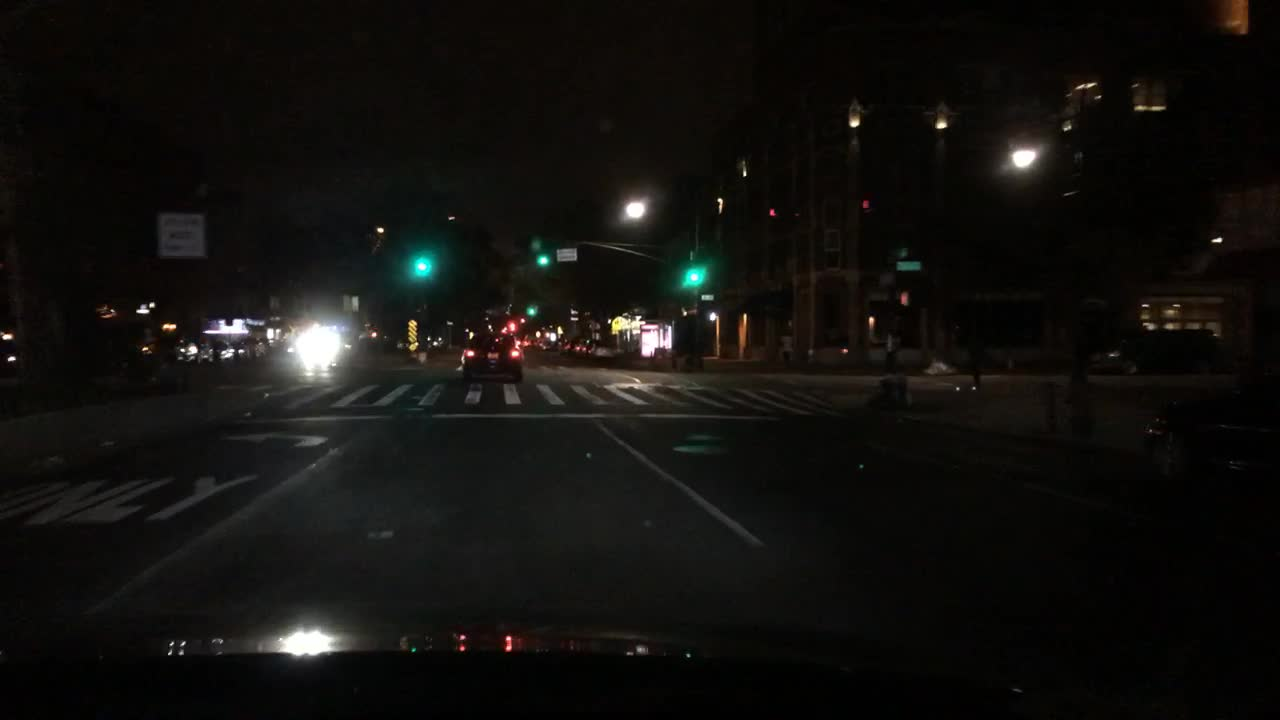car: (460, 327, 524, 382), (97, 324, 168, 363), (291, 325, 354, 367), (1089, 342, 1145, 373), (0, 327, 27, 369), (170, 336, 202, 364), (241, 334, 267, 359), (421, 333, 450, 352), (588, 340, 614, 360), (212, 340, 233, 362), (230, 341, 251, 361), (262, 335, 282, 354), (384, 337, 405, 353), (535, 336, 556, 352), (198, 343, 216, 361), (520, 333, 537, 351), (568, 339, 588, 354), (552, 339, 572, 353)
traffic light: (416, 255, 435, 281), (685, 267, 703, 286), (506, 319, 520, 334), (536, 254, 552, 267), (766, 206, 782, 219), (900, 291, 910, 306), (860, 199, 871, 210), (526, 304, 536, 315)
traffic sign: (155, 213, 206, 260), (609, 315, 631, 336), (556, 247, 579, 263), (895, 259, 921, 272), (407, 319, 418, 344), (698, 291, 712, 300)
